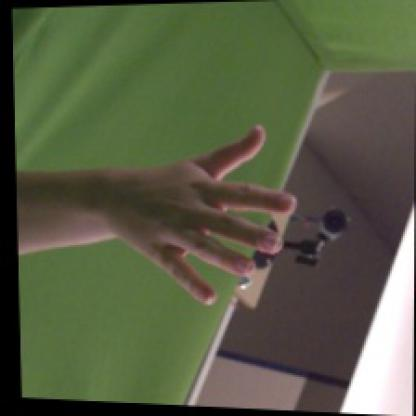Hand: (108, 123, 298, 307)
